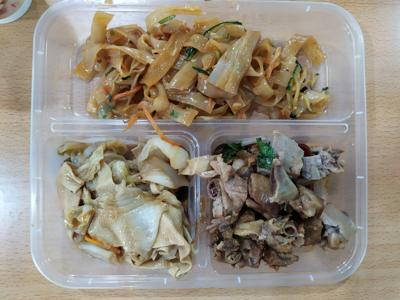gdf: (47, 132, 199, 276)
